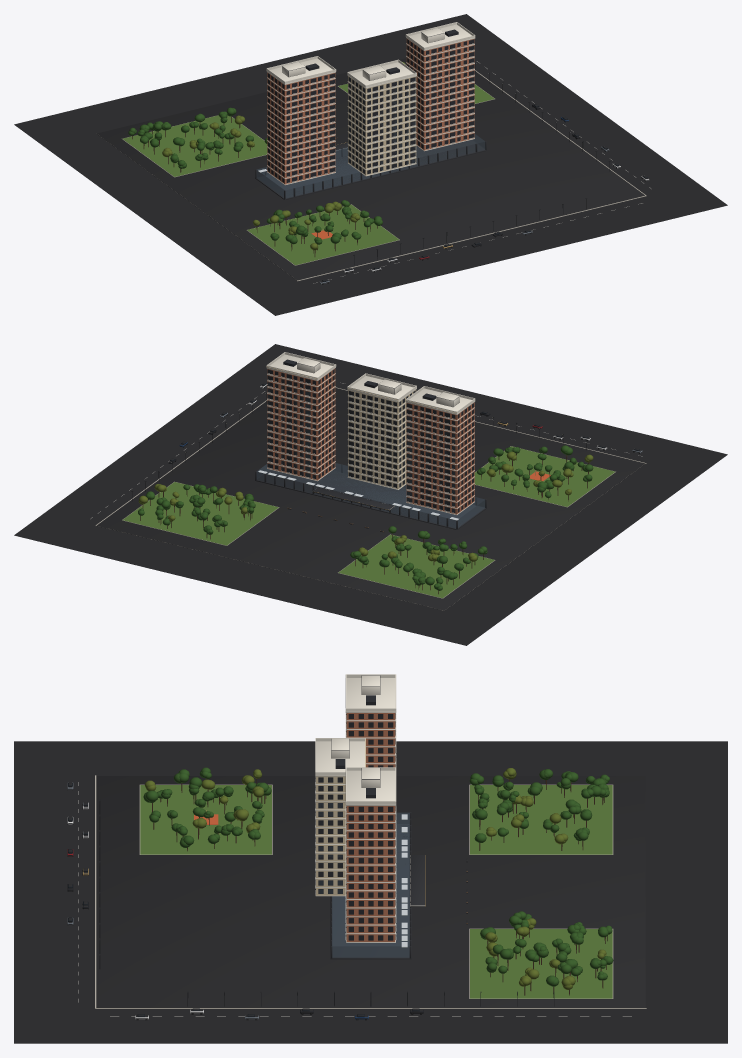
The model's file is family-quarter.glb.
3 renders of one model, top to bottom at view 1: azimuth 30°, elevation 25°; view 2: azimuth 150°, elevation 25°; view 3: azimuth 270°, elevation 25°, orthographic. The views are drawn at different scales.
Parts seen in each view (by area): view 1: site, roof, podium, floor-13, floor-14, floor-12, floor-4, floor-9, floor-2, floor-3, floor-8, floor-11 (+7 smaller); view 2: site, podium, roof, floor-14, floor-11, floor-1, floor-2, floor-12, floor-9, floor-3, floor-8, floor-10 (+7 smaller); view 3: site, roof, podium, floor-14, floor-11, floor-12, floor-13, floor-15, floor-16, floor-10, floor-9, floor-2 (+7 smaller).
Boxes of the visible parts, box(x1,y1,x2,y2) form: site: box(14, 14, 727, 315); roof: box(266, 22, 475, 88); podium: box(255, 134, 486, 199); floor-13: box(267, 57, 474, 109); floor-14: box(267, 51, 474, 103); floor-12: box(267, 63, 474, 116); floor-4: box(267, 114, 474, 166); floor-9: box(267, 82, 474, 134); floor-2: box(267, 126, 474, 178); floor-3: box(267, 120, 474, 172); floor-8: box(267, 89, 474, 141); floor-11: box(267, 70, 474, 122); site: box(14, 344, 727, 645); podium: box(255, 463, 486, 529); roof: box(266, 352, 475, 414); floor-14: box(267, 381, 474, 433); floor-11: box(267, 400, 474, 452); floor-1: box(267, 462, 474, 515); floor-2: box(267, 456, 474, 508); floor-12: box(267, 393, 474, 446); floor-9: box(267, 412, 474, 464); floor-3: box(267, 450, 474, 502); floor-8: box(267, 418, 474, 471); floor-10: box(267, 406, 474, 458); site: box(14, 741, 727, 1043); roof: box(315, 674, 396, 805); podium: box(330, 812, 425, 959); floor-14: box(315, 729, 396, 831); floor-11: box(315, 736, 396, 857); floor-12: box(315, 727, 396, 848); floor-13: box(315, 731, 396, 839); floor-15: box(345, 714, 396, 822); floor-16: box(345, 713, 396, 814); floor-10: box(315, 757, 396, 865); floor-9: box(315, 762, 396, 874); floor-2: box(315, 872, 396, 934).
Bounding box in the file's own units: 234 × 58.02 × 234.
